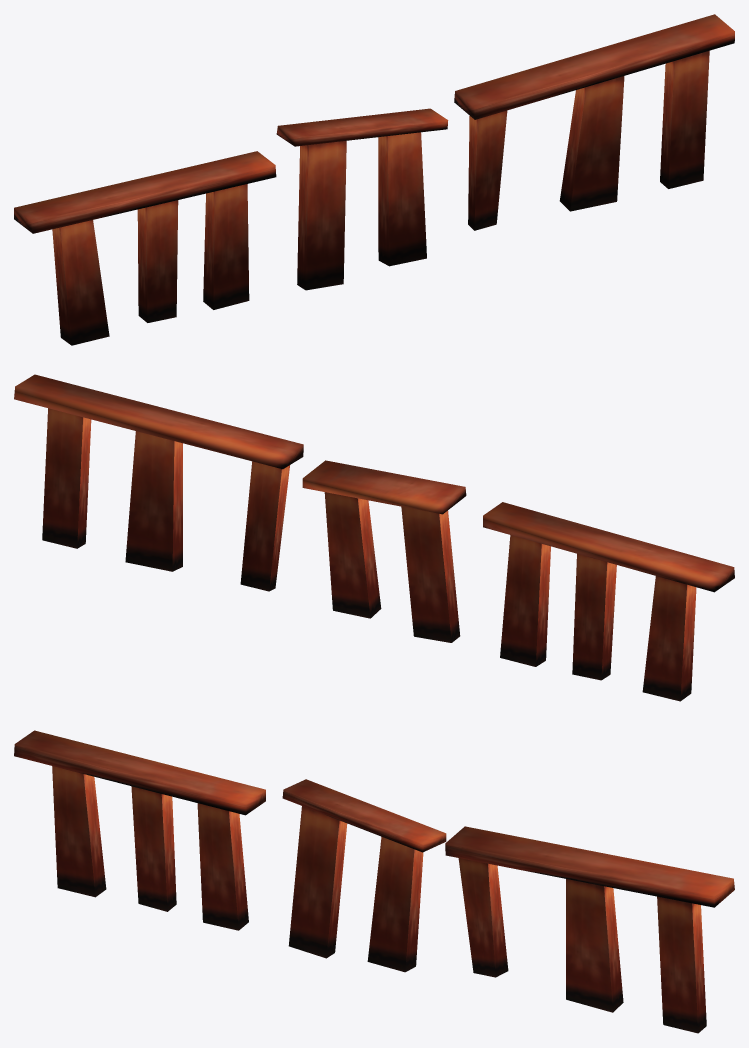
File: wood_8x1.DAE
3 renders of one model, top to bottom at view 1: azimuth 30°, elevation 25°; view 2: azimuth 150°, elevation 25°; view 3: azimuth 330°, elevation 25°, orthographic.
Parts seen in each view (by area): view 1: Box005; view 2: Box005; view 3: Box005.
Boxes of the visible parts, x1,y1,x2,y2 form: Box005: (14,14,734,345); Box005: (14,374,734,701); Box005: (14,730,734,1033).
Size of the model in its own units: 8.97 by 1.98 by 0.6676.
